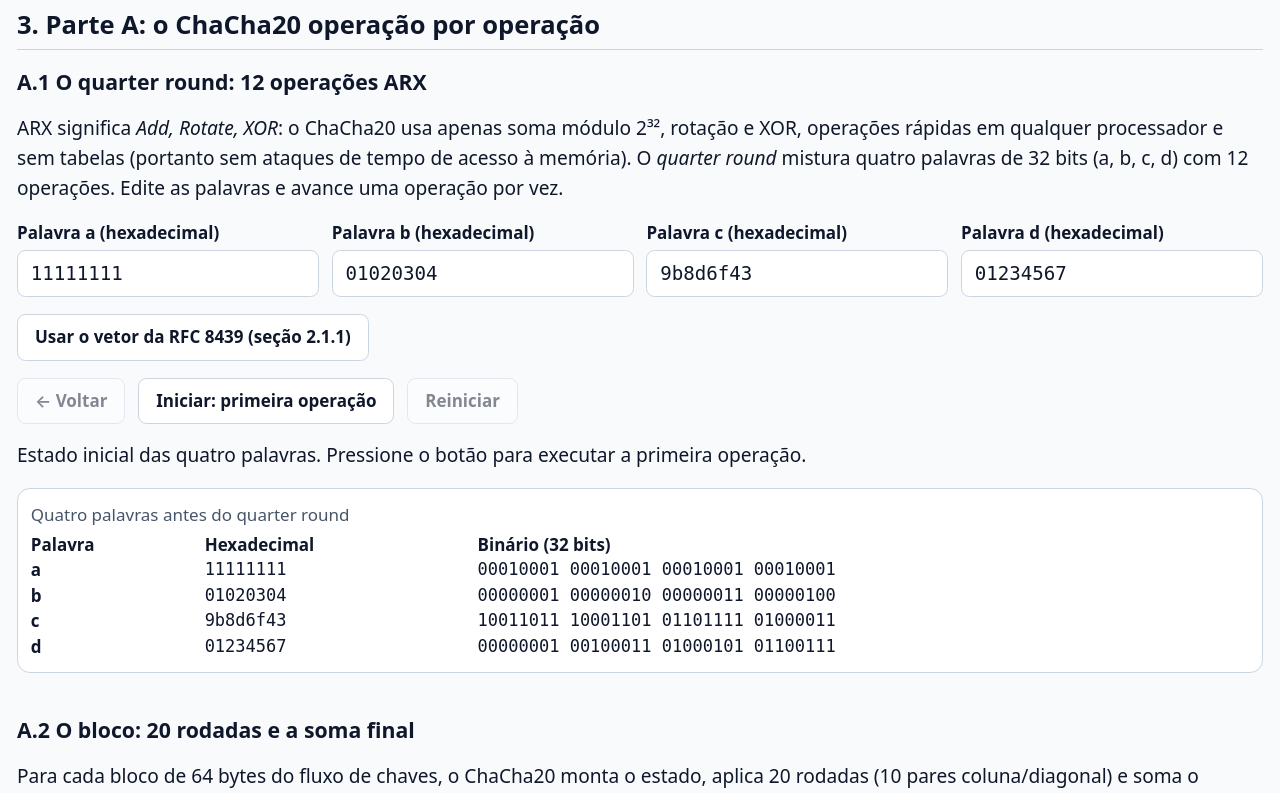
laboratório de ChaCha20 › quarter round: executa uma operação por vez
(page scrolled)
Click the button "Iniciar: primeira operação" at (266, 401), box [138, 378, 394, 424]
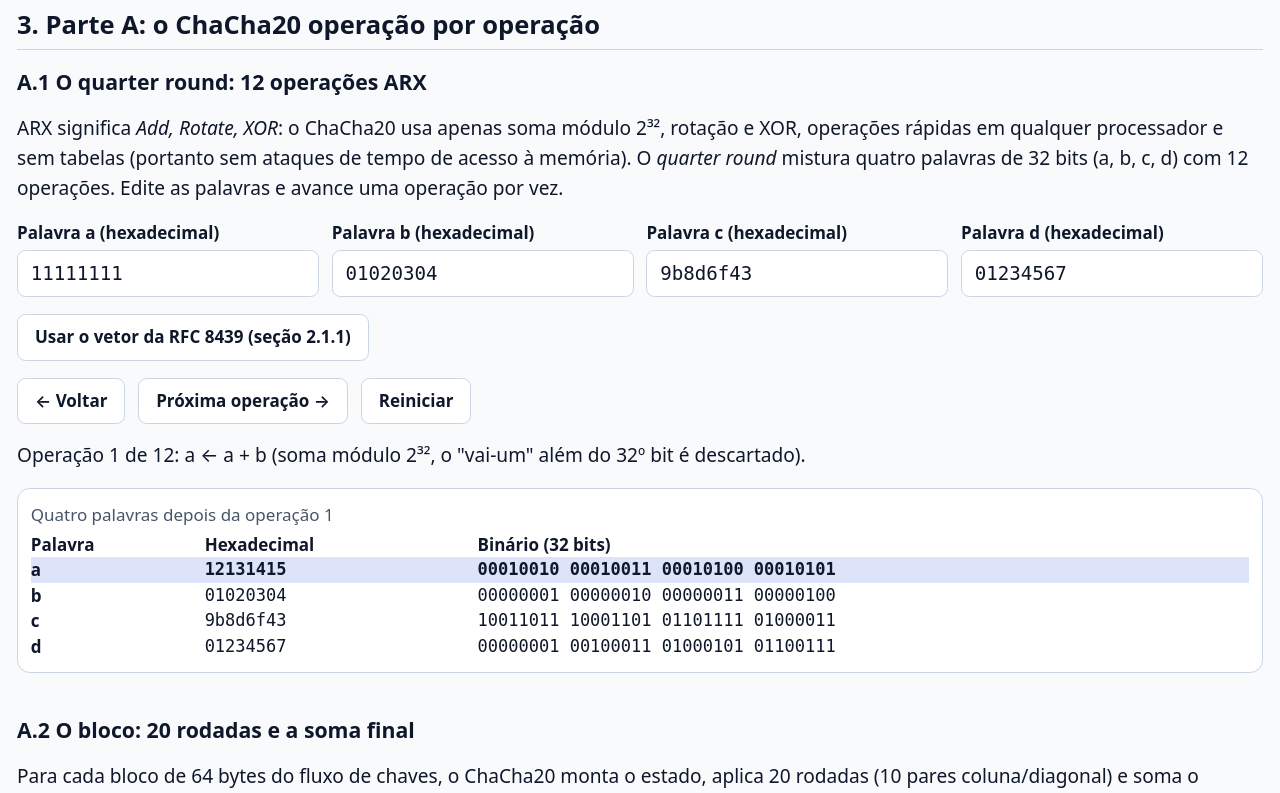
Expected: the text "Operação 1 de 12: a ← a + b" is shown, [17, 442, 806, 468]
Expected: the text "12131415" is shown, [205, 557, 478, 583]
